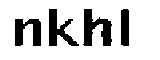h: (79, 6, 115, 49)
k: (48, 5, 80, 49)
l: (117, 5, 135, 54)
n: (10, 16, 43, 50)
